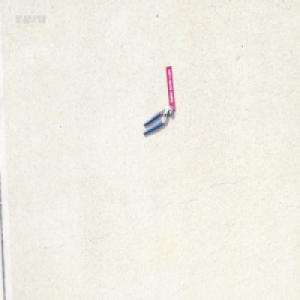Label: (165, 64, 175, 111)
Pliers: (142, 104, 173, 135)
